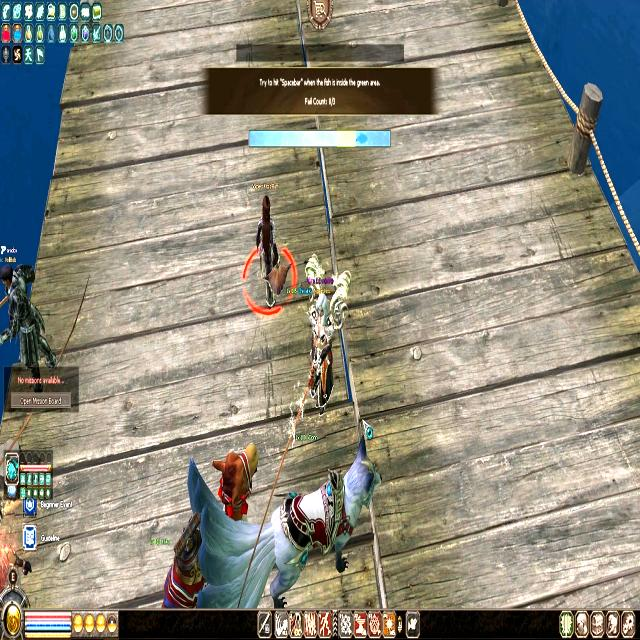fishes: (355, 131, 367, 146)
